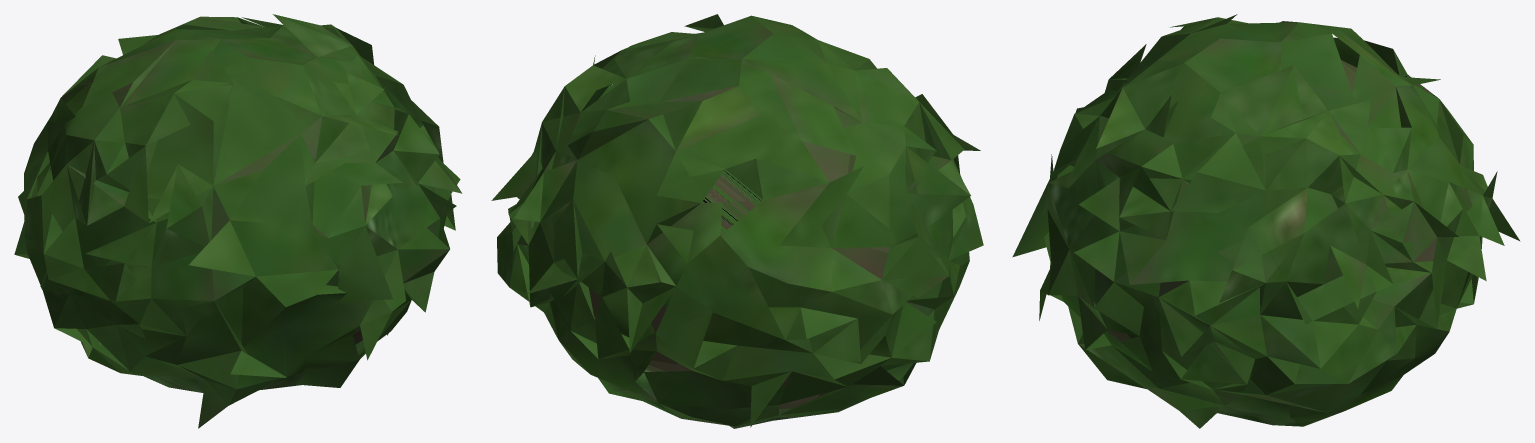
Rendered from bush.glb.
The picture shows the model from 3 angles, left to right: view 1: azimuth 30°, elevation 25°; view 2: azimuth 150°, elevation 25°; view 3: azimuth 270°, elevation 25°; orthographic projection. The views are drawn at different scales.
Visible parts, largest first — view 1: output_unwrapped; view 2: output_unwrapped; view 3: output_unwrapped.
Boxes of the visible parts, x1,y1,x2,y2 form: output_unwrapped: [14, 14, 462, 428]; output_unwrapped: [491, 14, 983, 428]; output_unwrapped: [1012, 14, 1520, 428].
Bounding box in the file's own units: 1.75 × 1.45 × 1.83.
Materials: 1 (1 with a texture image).
